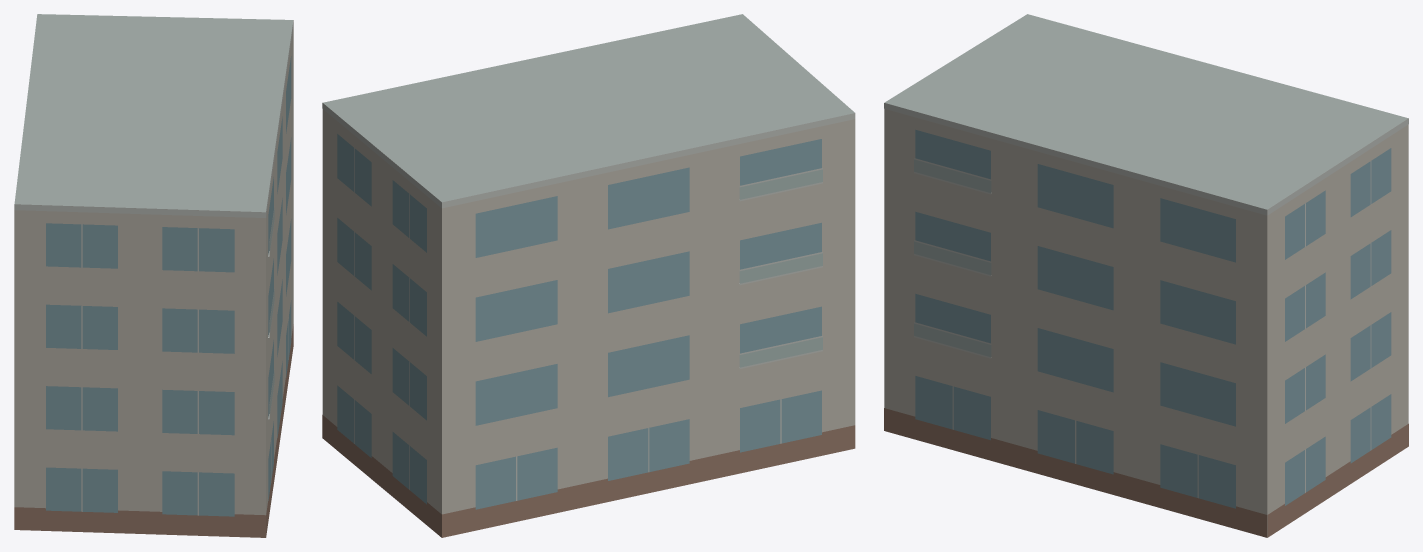
The model's file is survey-upis-33013041.glb.
3 renders of one model, left to right at view 1: azimuth 30°, elevation 25°; view 2: azimuth 150°, elevation 25°; view 3: azimuth 270°, elevation 25°, orthographic. The views are drawn at different scales.
Visible parts, largest first — view 1: survey-upis-33013041.tmp; view 2: survey-upis-33013041.tmp; view 3: survey-upis-33013041.tmp.
Part boxes in pixels (x1,y1,x2,y2): survey-upis-33013041.tmp: (14, 14, 293, 537); survey-upis-33013041.tmp: (322, 14, 855, 537); survey-upis-33013041.tmp: (884, 14, 1408, 537).
Size of the model in its own units: 17.28 by 13.5 by 19.57.
